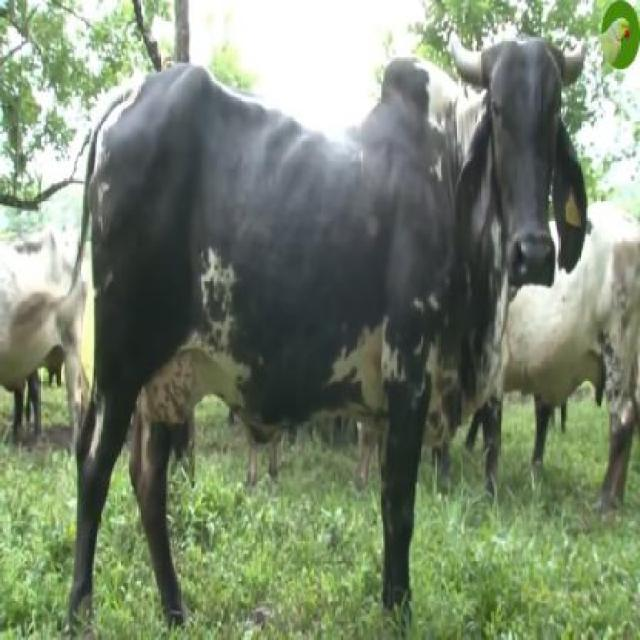Cow: (71, 36, 586, 638)
